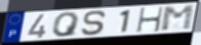1: (119, 9, 134, 34)
4: (26, 13, 48, 39)
H: (136, 6, 165, 34)
M: (160, 4, 196, 33)
Q: (51, 11, 81, 38)
S: (80, 10, 108, 36)
